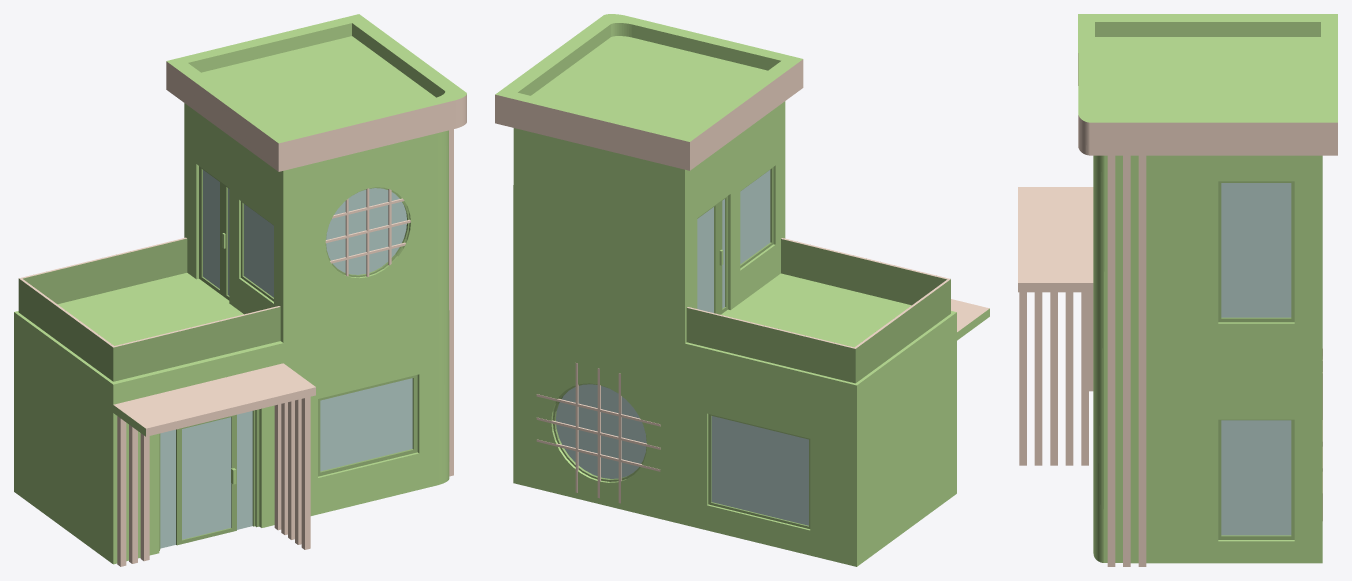
Rendered from green_house.glb.
3 renders of one model, left to right at view 1: azimuth 30°, elevation 25°; view 2: azimuth 150°, elevation 25°; view 3: azimuth 270°, elevation 25°, orthographic. The views are drawn at different scales.
Visible parts, largest first — view 1: body; view 2: body; view 3: body.
Boxes of the visible parts, x1=… form: body: x1=14, y1=14, x2=466, y2=566; body: x1=495, y1=14, x2=989, y2=566; body: x1=1018, y1=14, x2=1337, y2=566.
Size of the model in its own units: 6.31 by 6.65 by 4.3.
